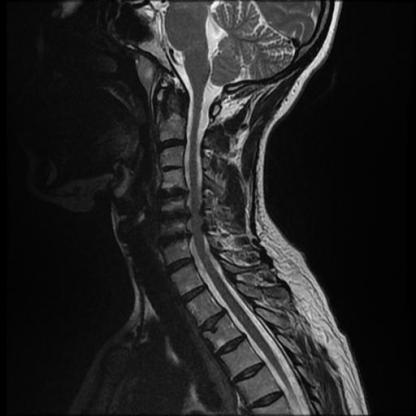Disc Protrusionrotation: (156, 209, 188, 227), (157, 185, 187, 203), (160, 164, 185, 174)
Osteophytesrotation: (156, 209, 188, 227), (157, 186, 187, 204), (160, 164, 184, 174)
